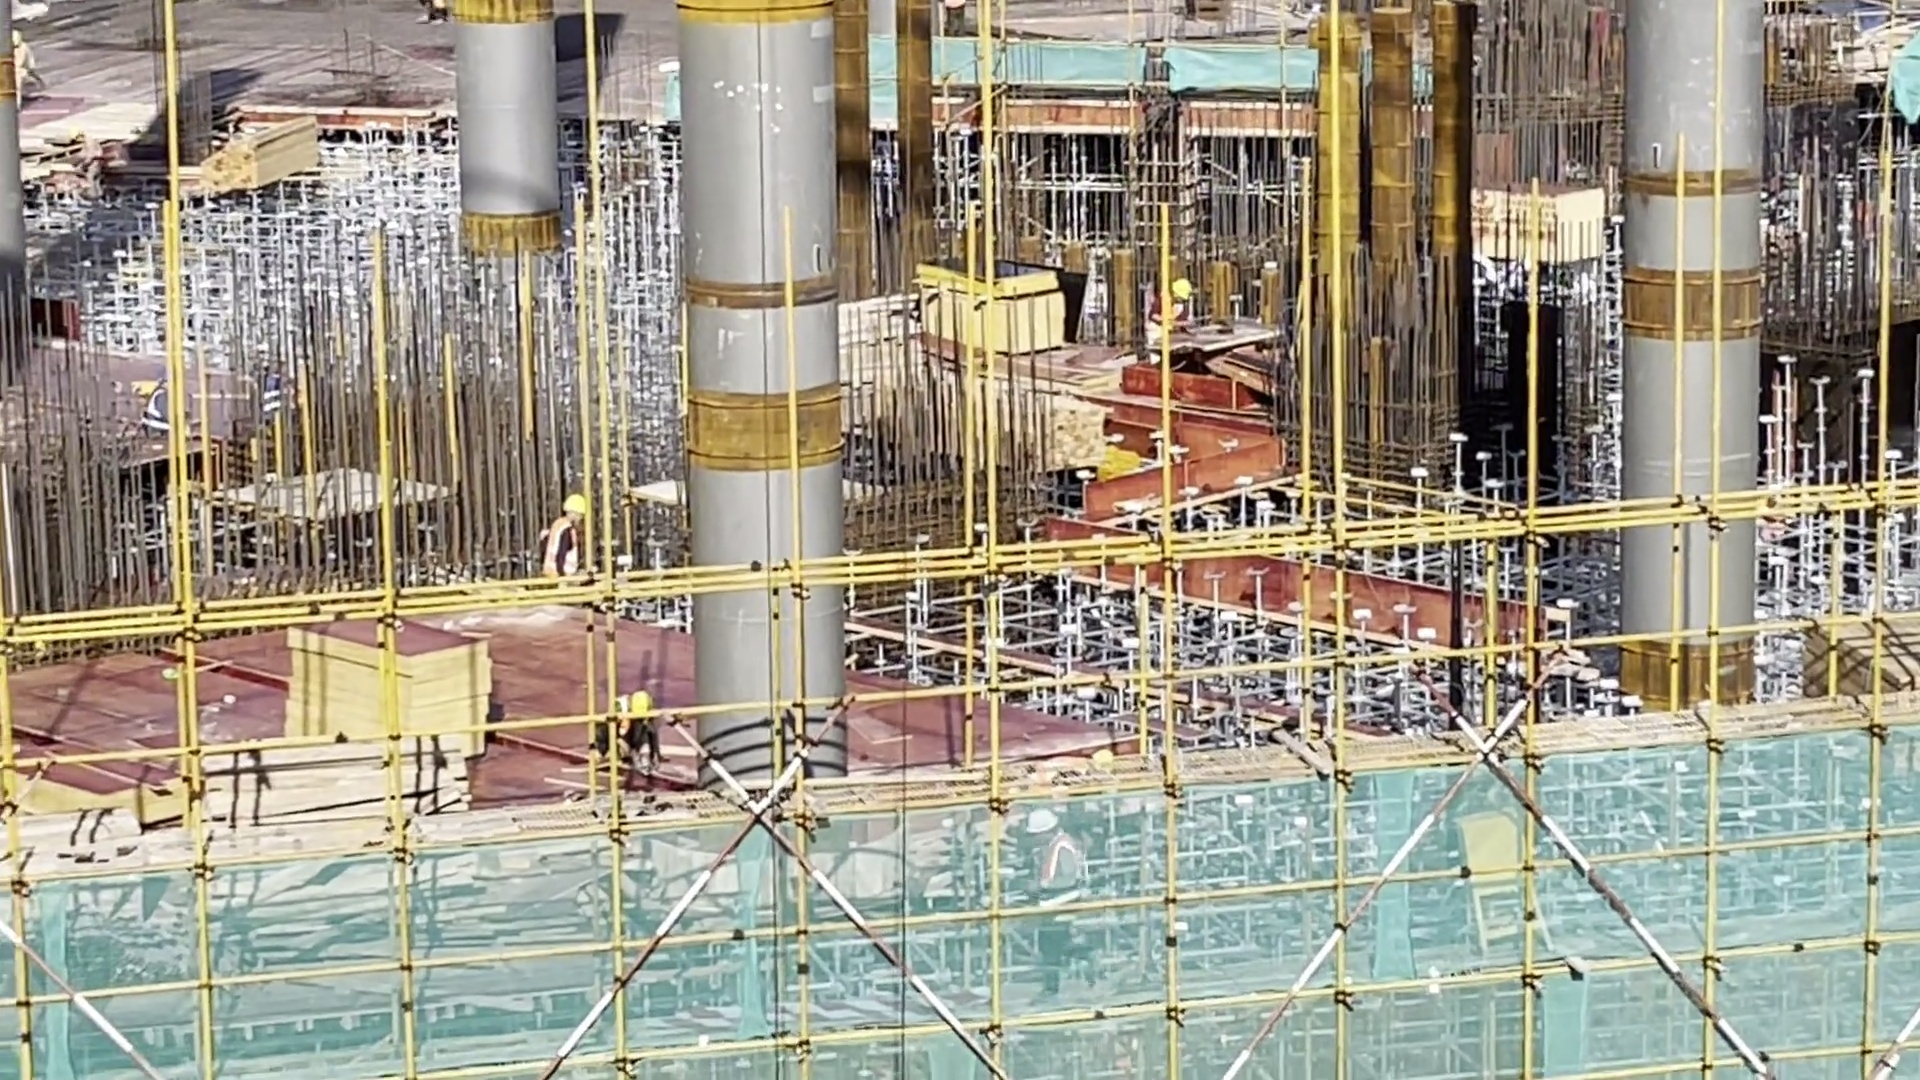board: (282, 618, 492, 760)
helmet: (561, 493, 584, 518), (631, 685, 652, 713)
person: (539, 492, 594, 591), (606, 687, 656, 781)
vest: (547, 522, 582, 576)
wood: (200, 739, 478, 812), (202, 123, 324, 196), (1816, 622, 1920, 703)
